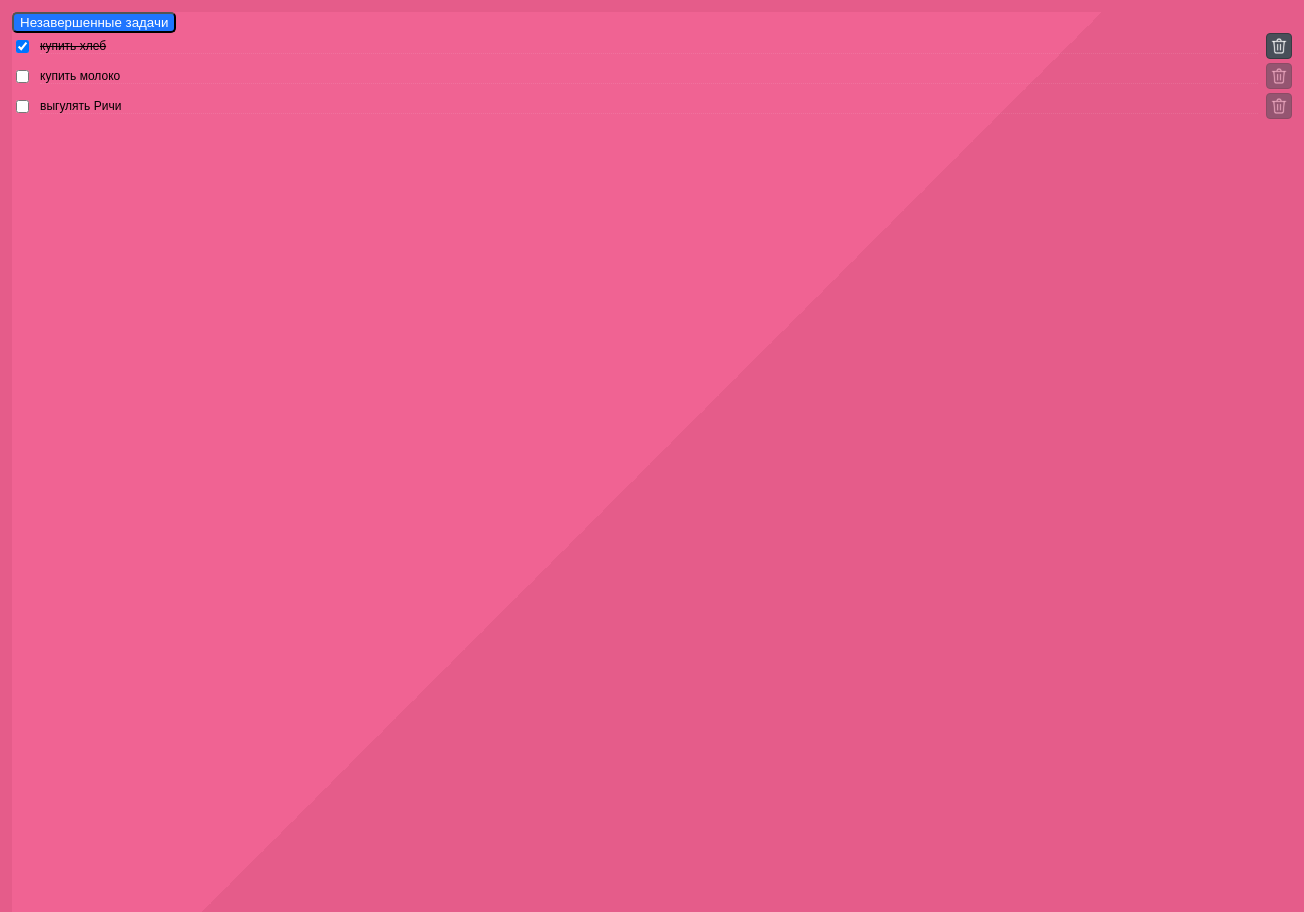
Test case: Список задач › переключает отображение задач с незавершенных на все
# Клик по кнопке фильтрации
Click the button "Незавершенные задачи": (94,22) x1=12 y1=12 x2=176 y2=33
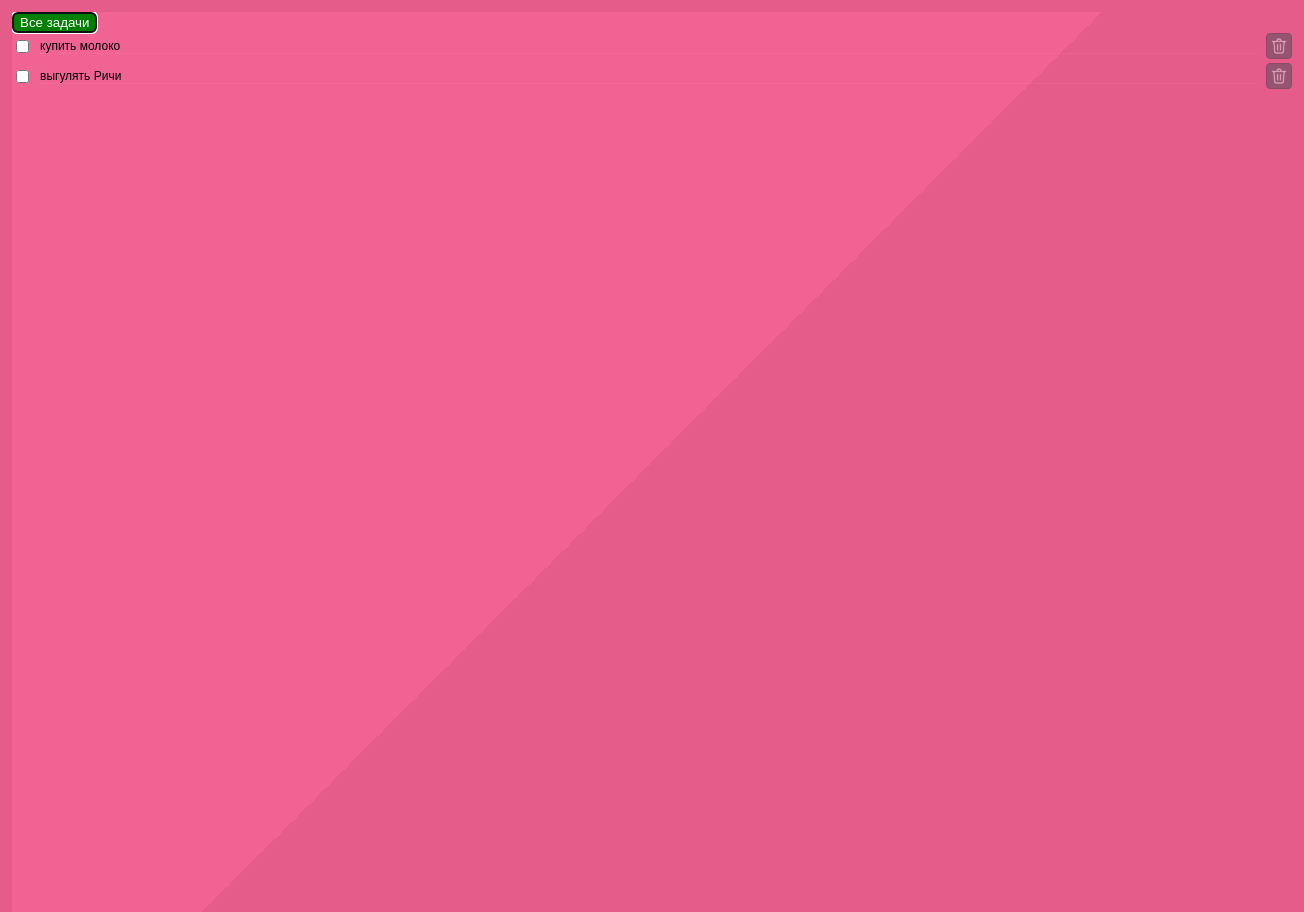
Expected: the button named "Незавершенные задачи" reads "Все задачи"
# Повторный клик по кнопке фильтрации, для выключения фильтрации
Click the button named "Незавершенные задачи": (55,22) x1=12 y1=12 x2=98 y2=33
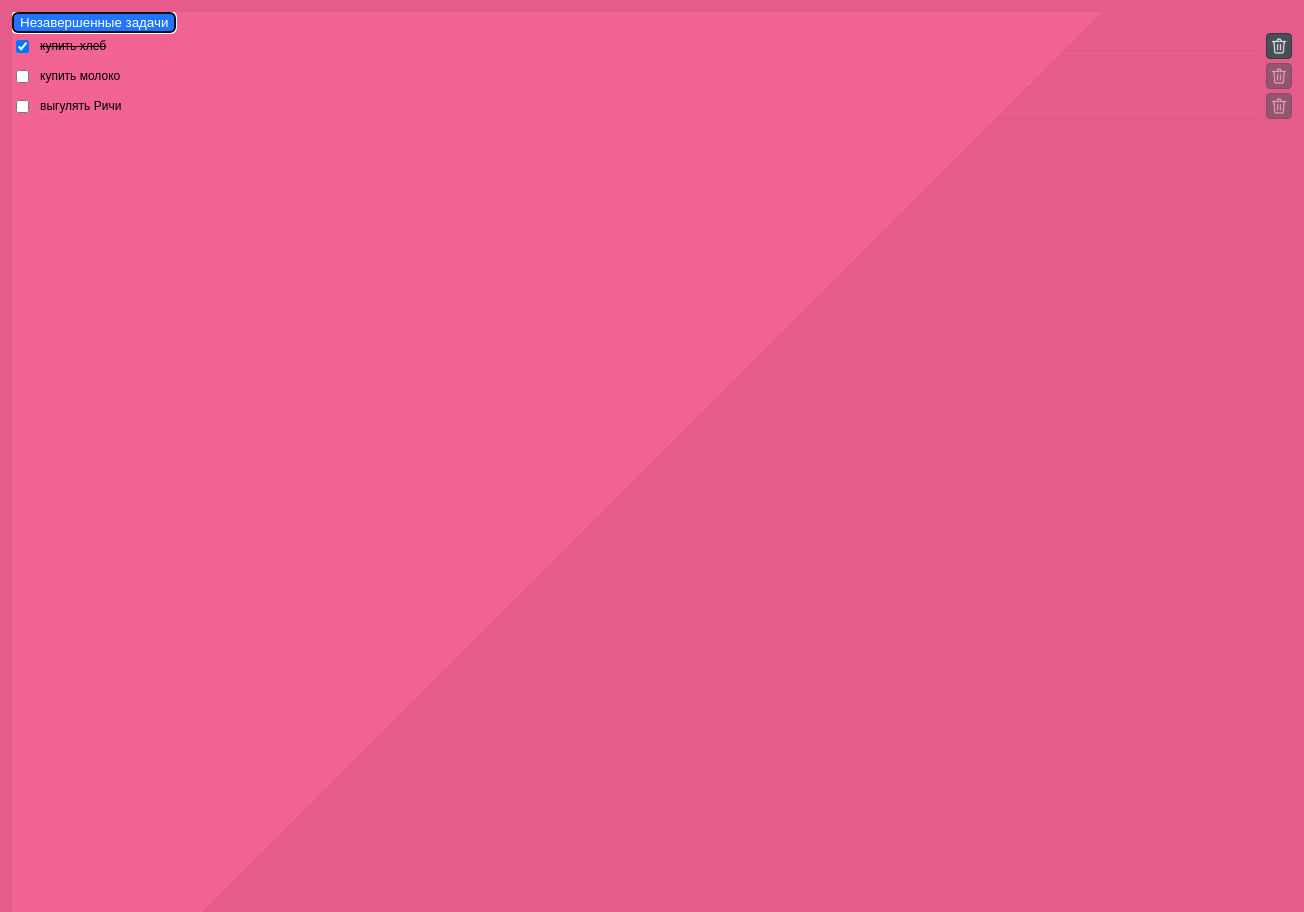
Expected: the button "Незавершенные задачи" is shown, x1=12 y1=12 x2=176 y2=33
